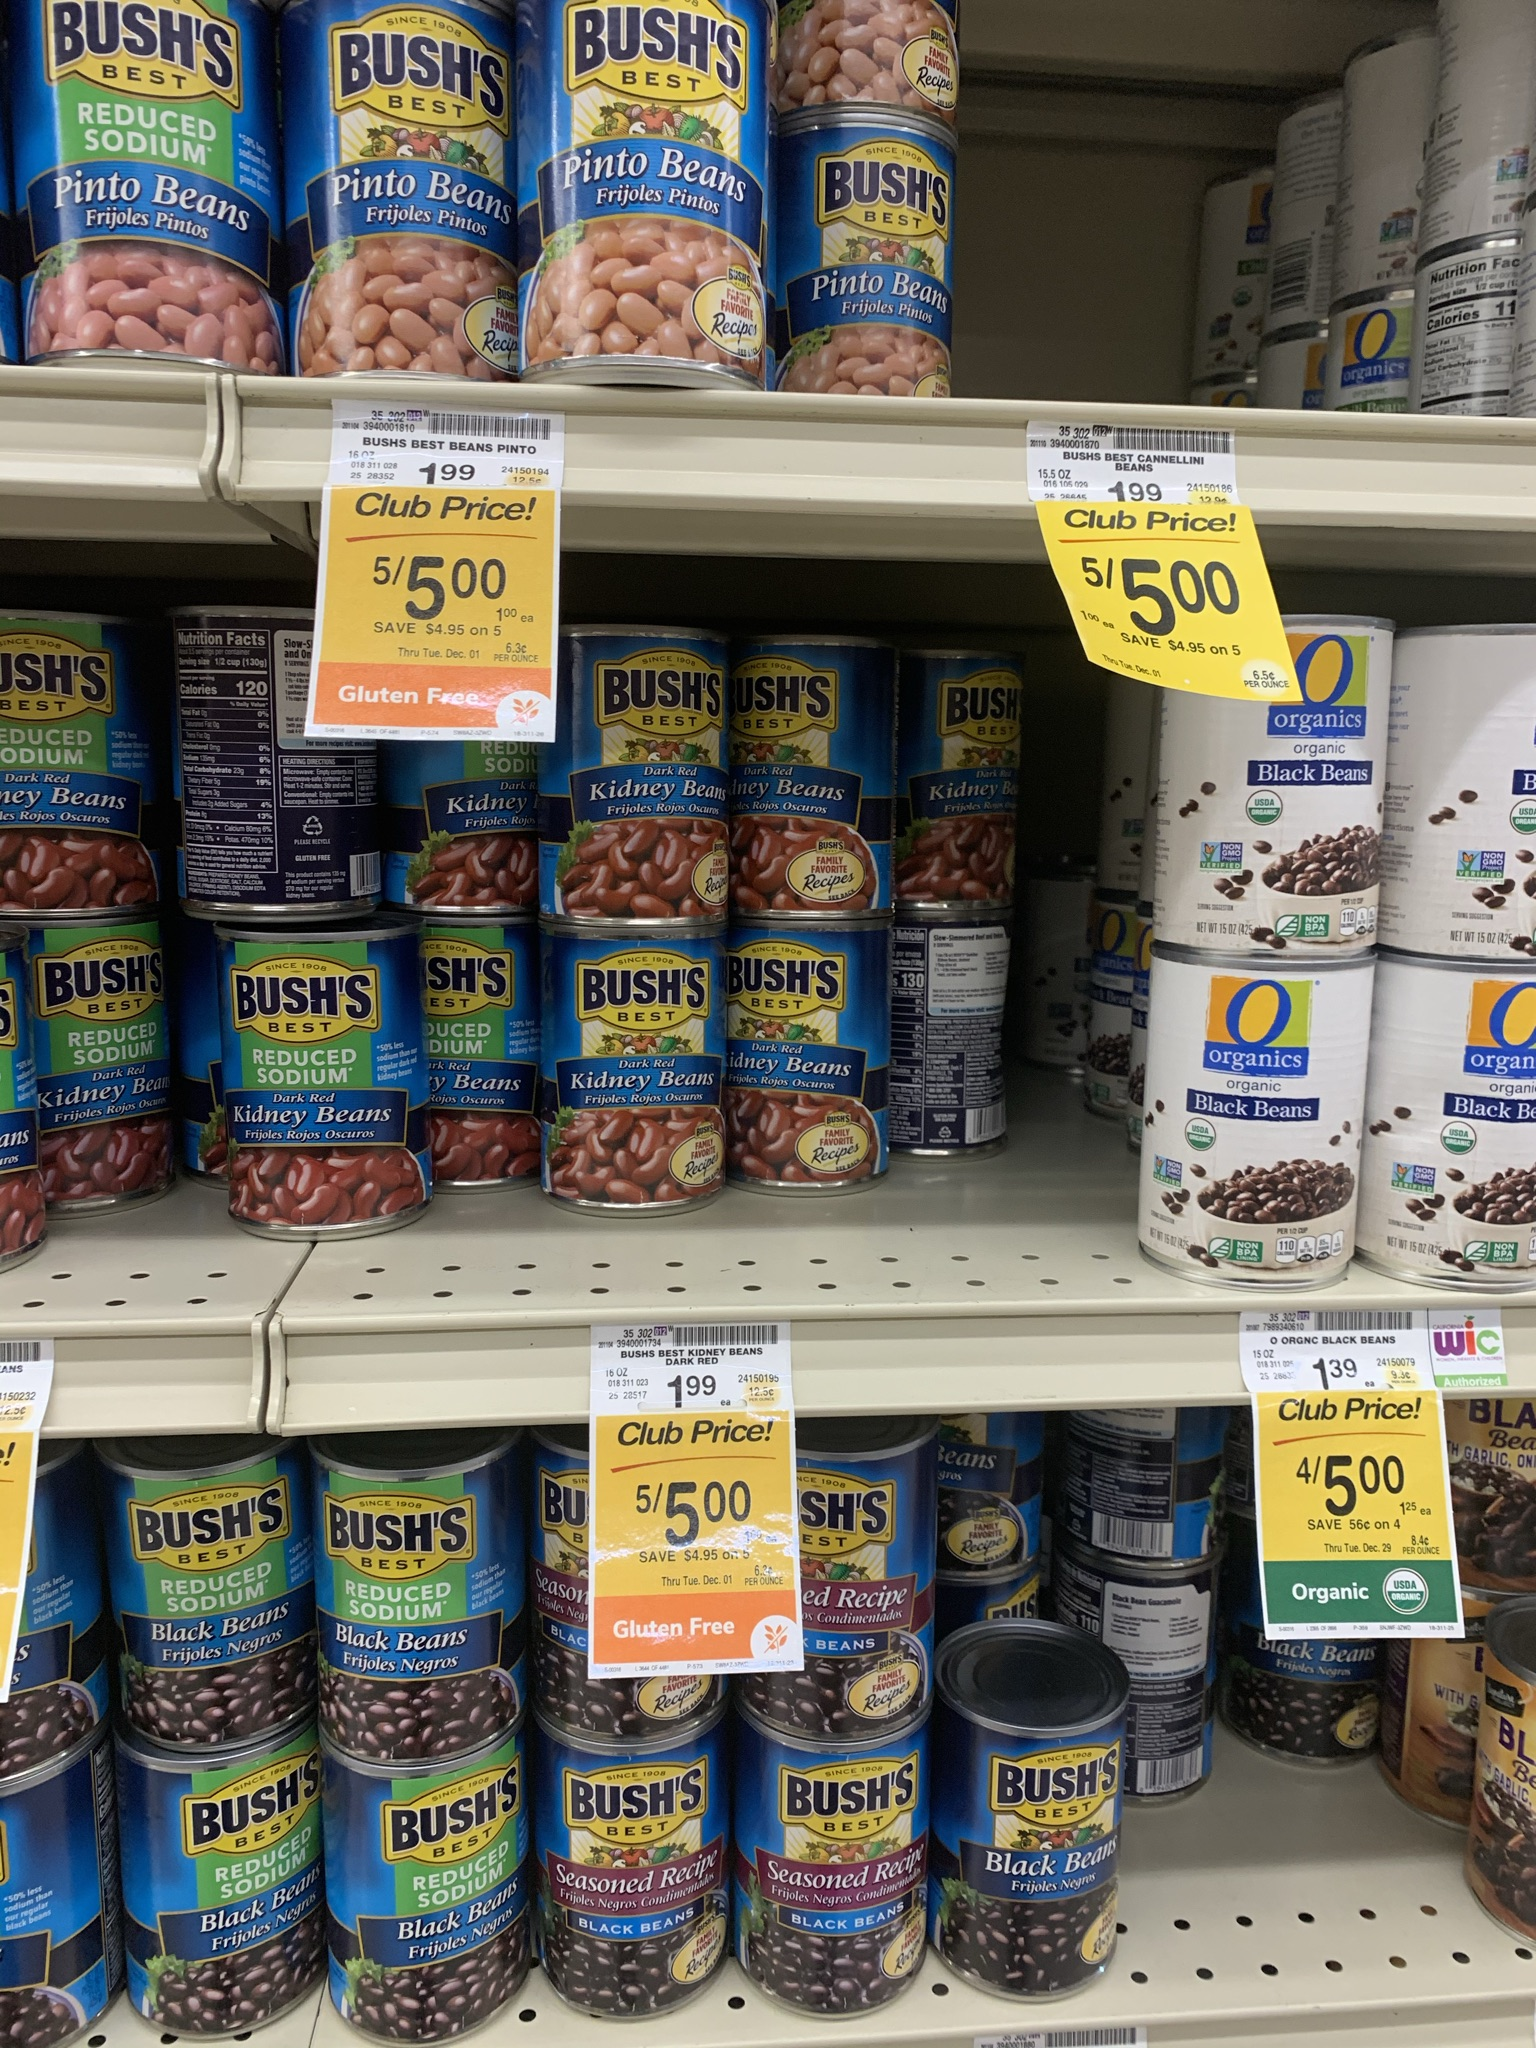can: (5, 2, 289, 369), (526, 2, 774, 389), (286, 2, 523, 381), (1152, 613, 1389, 958), (1141, 963, 1368, 1293), (311, 1455, 523, 1769), (215, 926, 426, 1234), (98, 1463, 307, 1759), (542, 924, 726, 1222), (553, 624, 729, 930), (781, 111, 960, 398), (728, 918, 895, 1200), (741, 631, 900, 922), (750, 1740, 920, 1998), (344, 1780, 516, 2029), (136, 1775, 307, 2022), (965, 1734, 1120, 1972), (561, 1771, 708, 2001)
